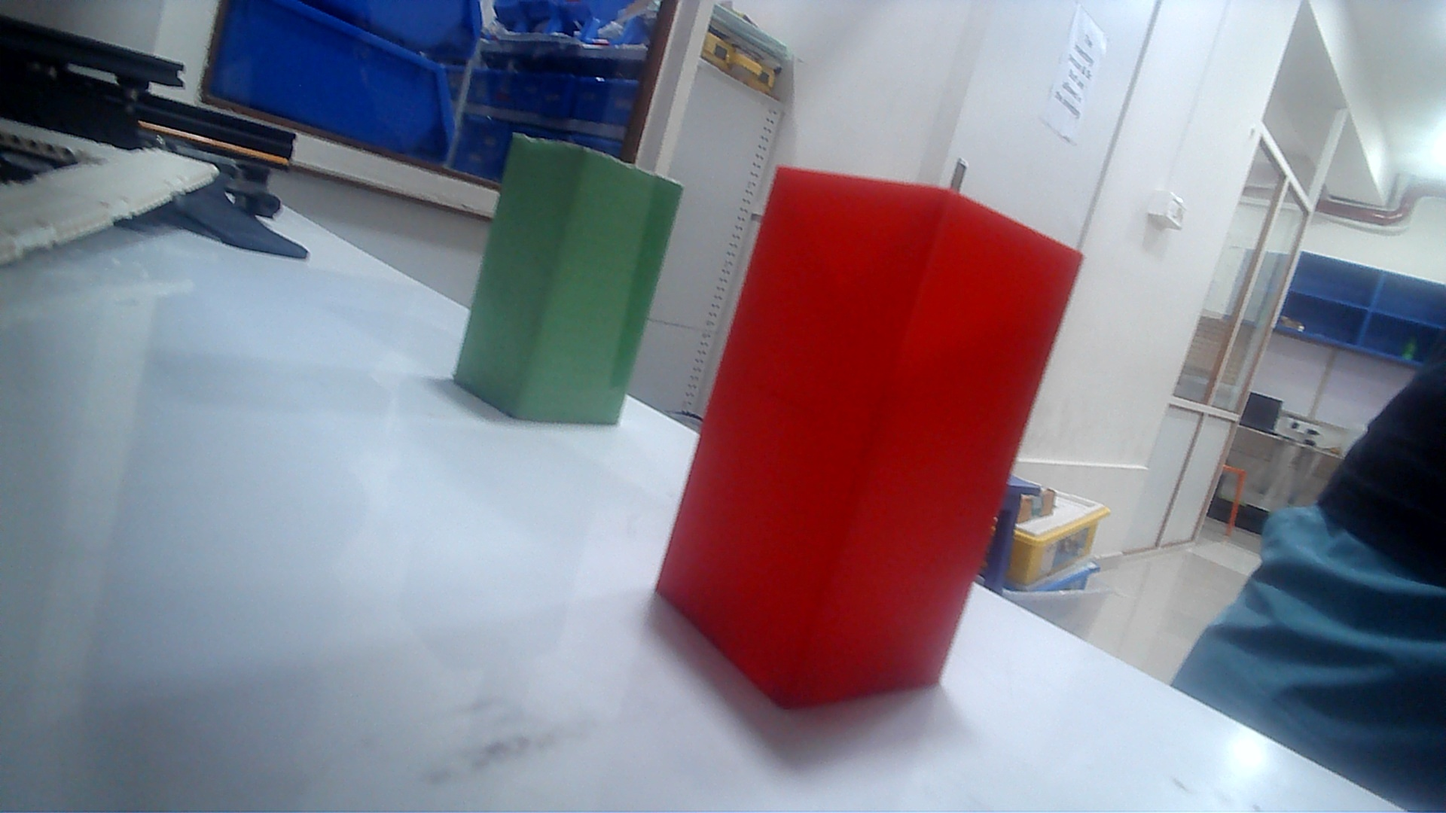red: (688, 127, 1091, 780)
